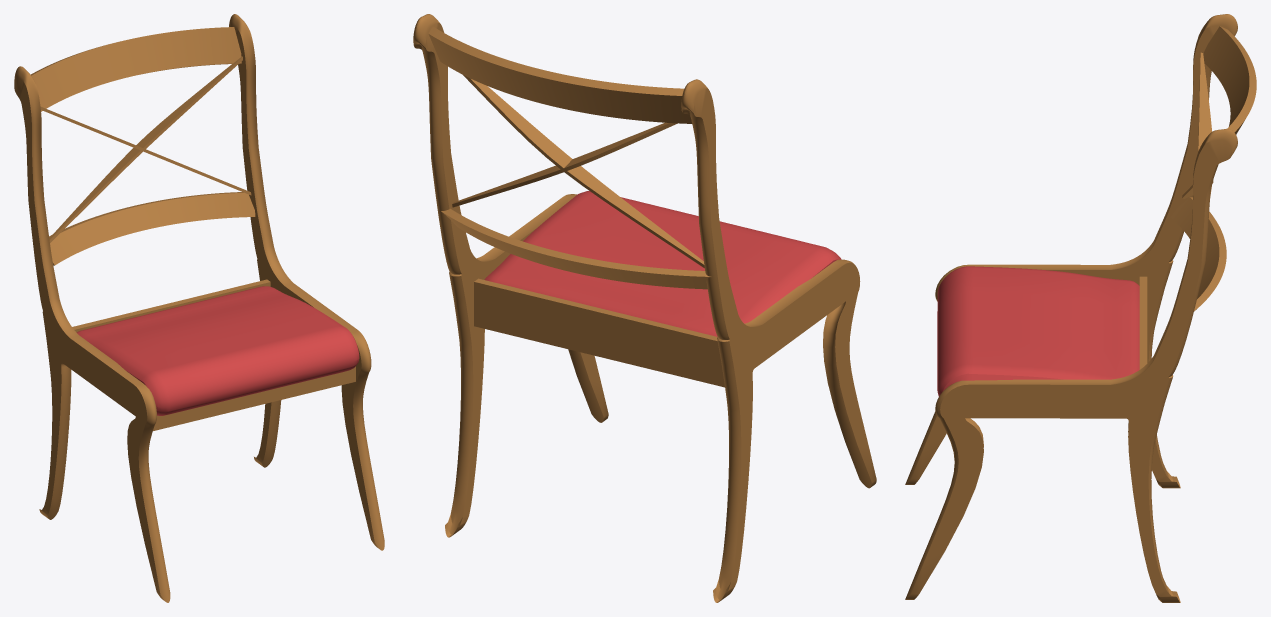
File: Chair.dae
The picture shows the model from 3 angles, left to right: view 1: azimuth 30°, elevation 25°; view 2: azimuth 150°, elevation 25°; view 3: azimuth 270°, elevation 25°; orthographic projection. The views are drawn at different scales.
Parts seen in each view (by area): view 1: S_chair-051, S_chair-051_2; view 2: S_chair-051, S_chair-051_2; view 3: S_chair-051, S_chair-051_2.
Part boxes in pixels (x1,y1,x2,y2): S_chair-051: (14, 14, 384, 602); S_chair-051_2: (76, 286, 359, 415); S_chair-051: (413, 14, 876, 602); S_chair-051_2: (484, 191, 841, 336); S_chair-051: (905, 14, 1256, 602); S_chair-051_2: (937, 266, 1139, 396).
Bounding box in the file's own units: 23.1 × 42.5 × 28.58.
